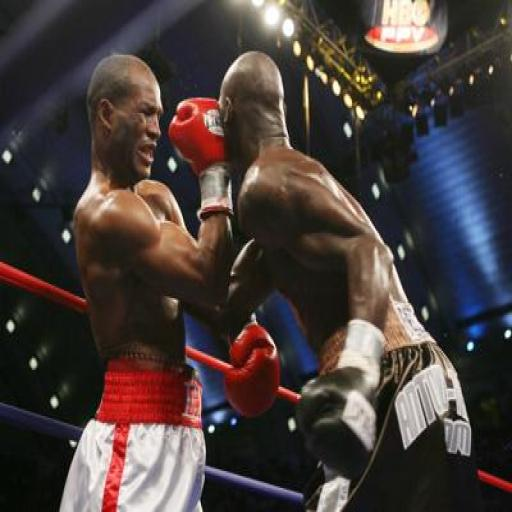boxing: (77, 34, 357, 512)
